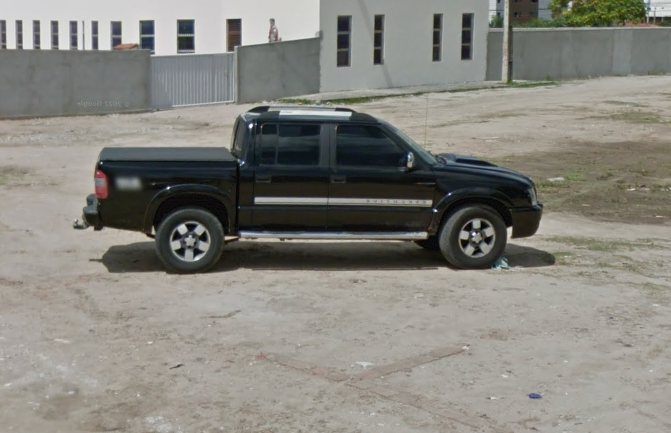car: (69, 101, 546, 276)
